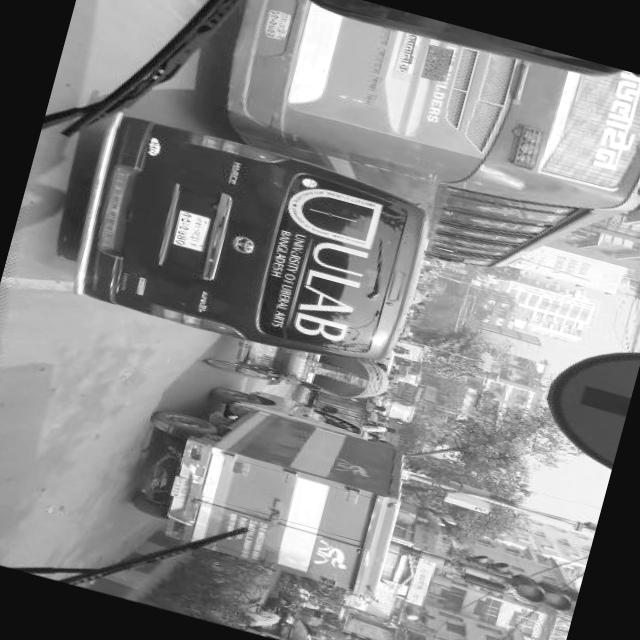bus: (187, 0, 640, 256), (370, 376, 423, 426), (400, 359, 426, 386)
car: (255, 592, 321, 640)
motorcycle: (200, 316, 399, 415), (274, 568, 336, 604)
truck: (58, 105, 440, 384), (117, 362, 420, 596)
